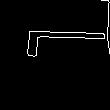L_E: (5, 38, 105, 72)
